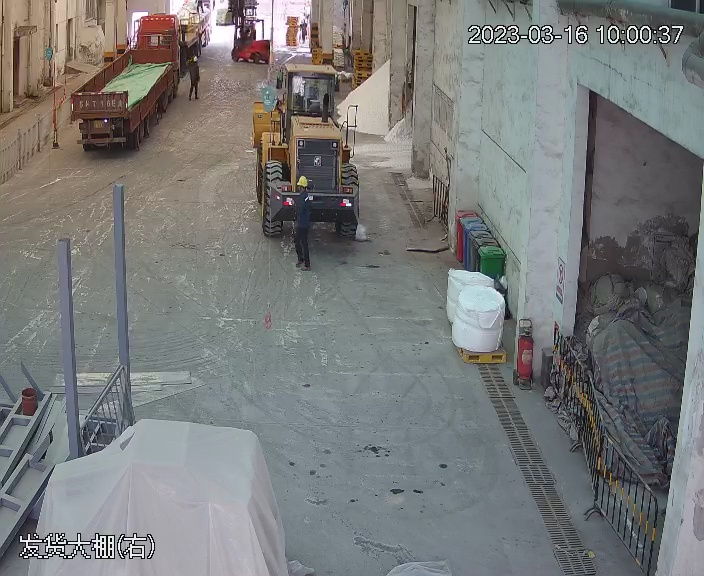head: (290, 174, 314, 267), (291, 175, 313, 209), (187, 56, 200, 72)
helmet: (296, 175, 310, 186), (193, 56, 199, 62)
people: (289, 177, 314, 271), (187, 55, 201, 101)
truck: (57, 3, 197, 157)
